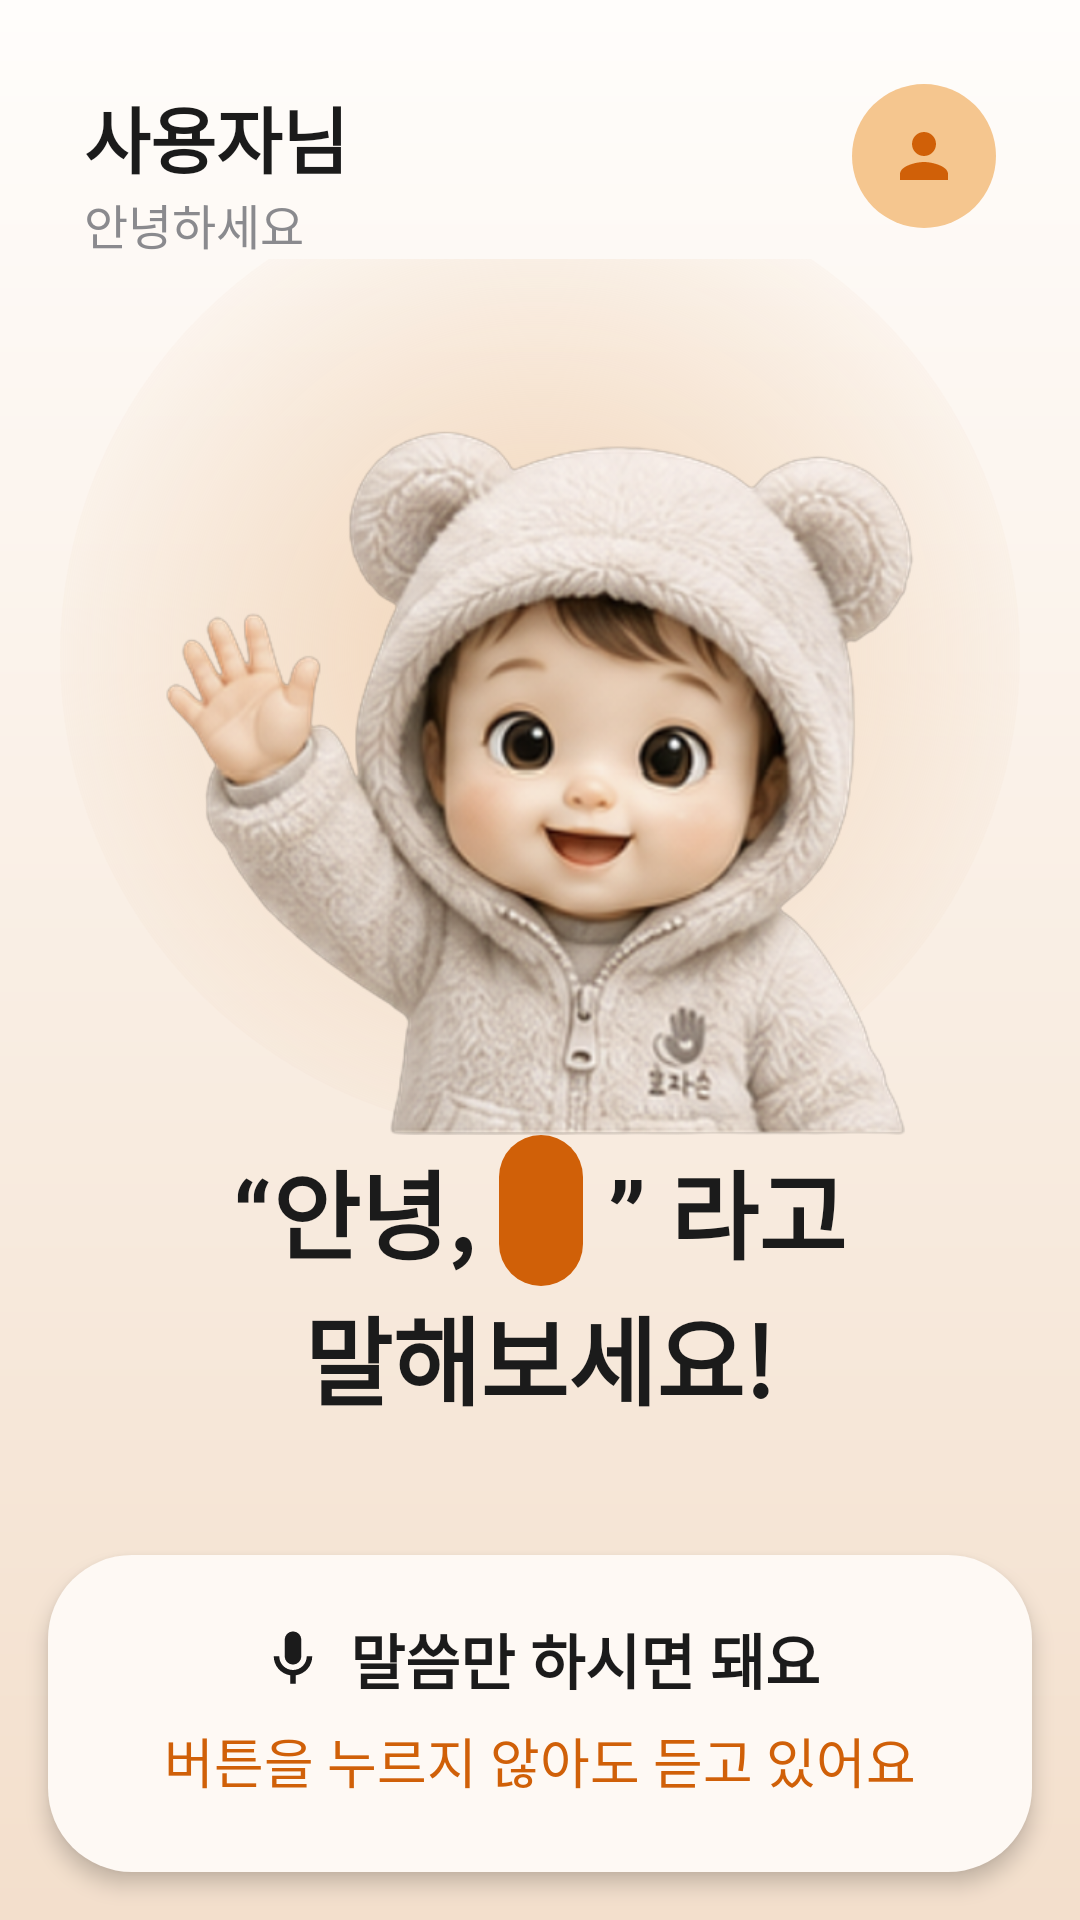

Screen size 1080px x 1920px. Icon name, then its center in pixels as (x,y):
mic: (293,1657)
